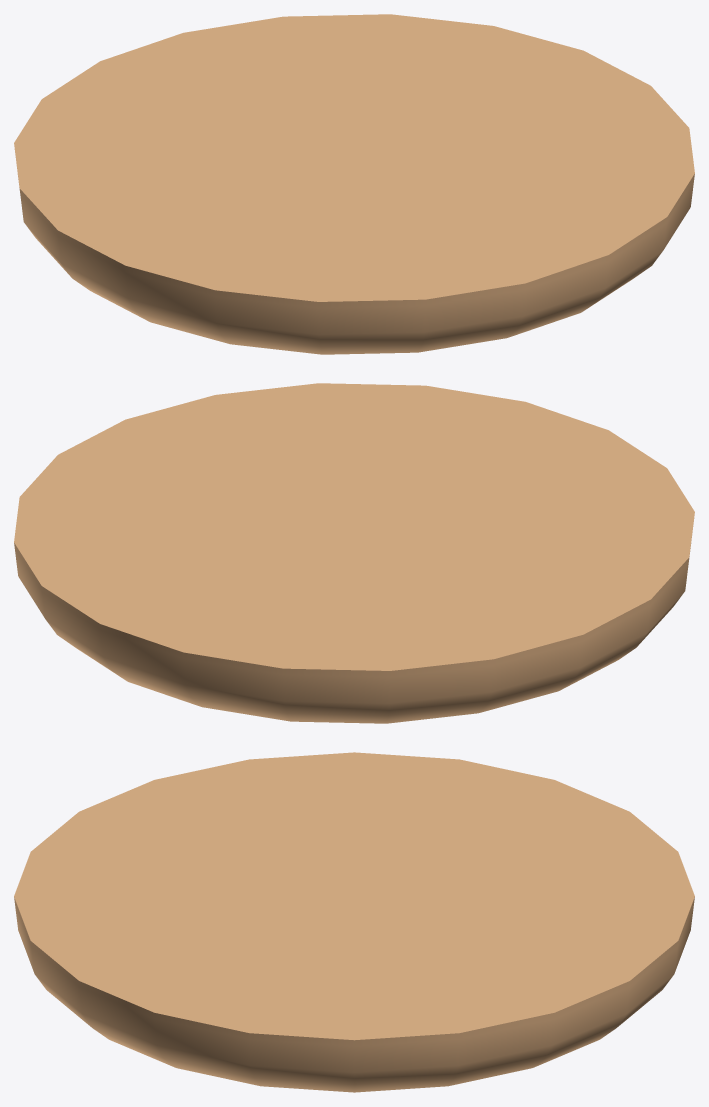
The model's file is BottomBun01.fbx.
3 renders of one model, top to bottom at view 1: azimuth 30°, elevation 25°; view 2: azimuth 150°, elevation 25°; view 3: azimuth 270°, elevation 25°, orthographic.
Parts seen in each view (by area): view 1: BottomBun; view 2: BottomBun; view 3: BottomBun.
Boxes of the visible parts, x1=… form: BottomBun: x1=14, y1=14, x2=694, y2=354; BottomBun: x1=14, y1=383, x2=694, y2=723; BottomBun: x1=14, y1=752, x2=694, y2=1092.
Bounding box in the file's own units: 10 × 1.16 × 10.
